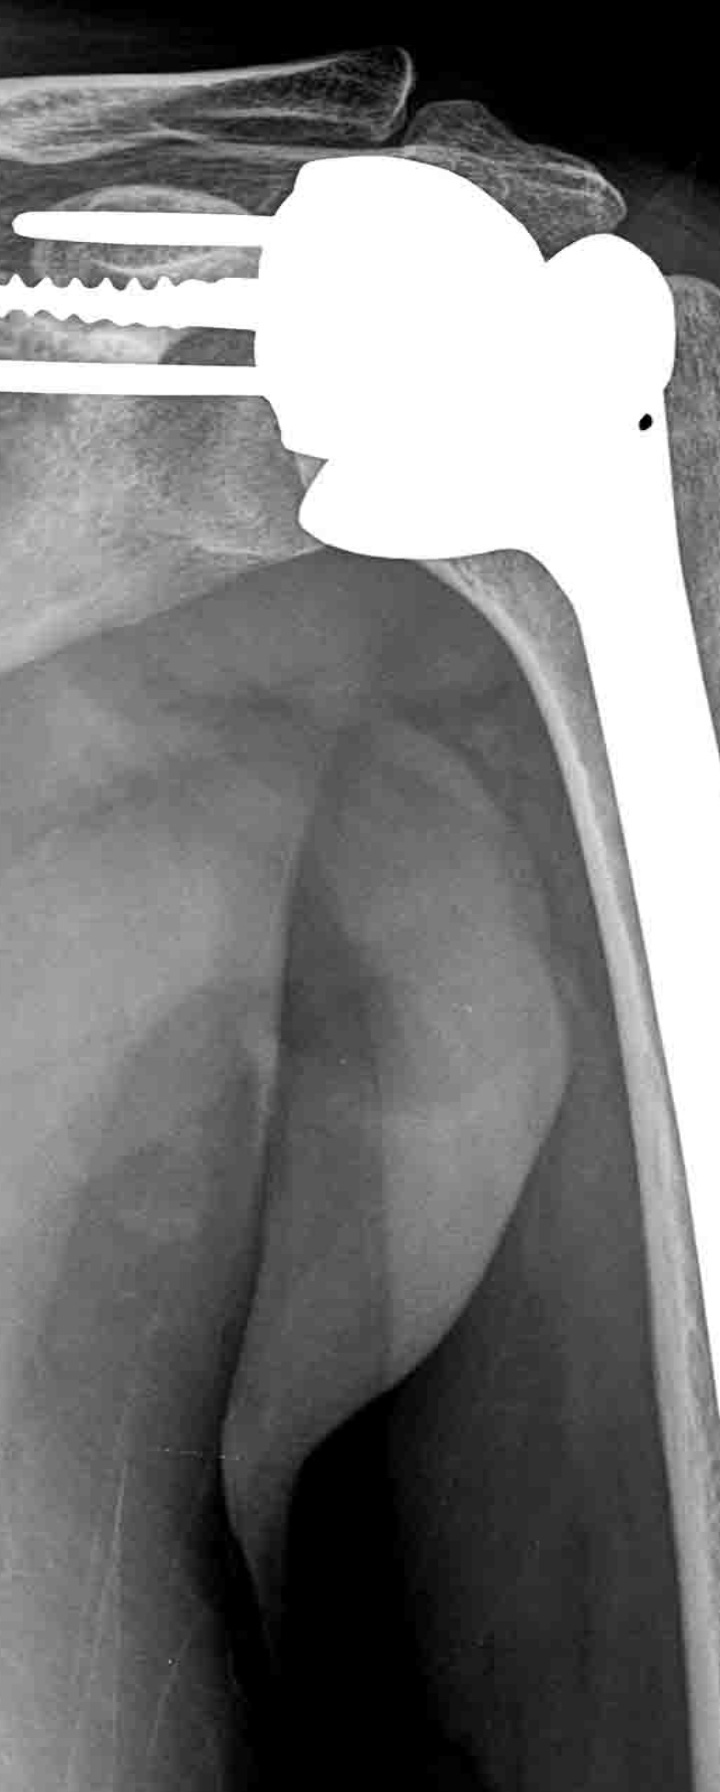Shoulder-Reverse-DJO: (1, 144, 720, 1464)
